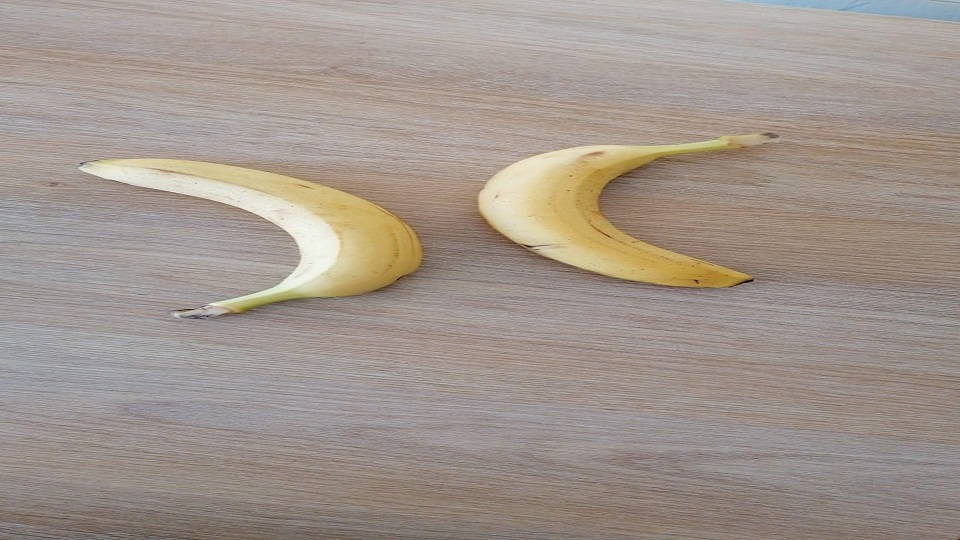muz: (76, 156, 424, 322), (477, 131, 782, 290)
